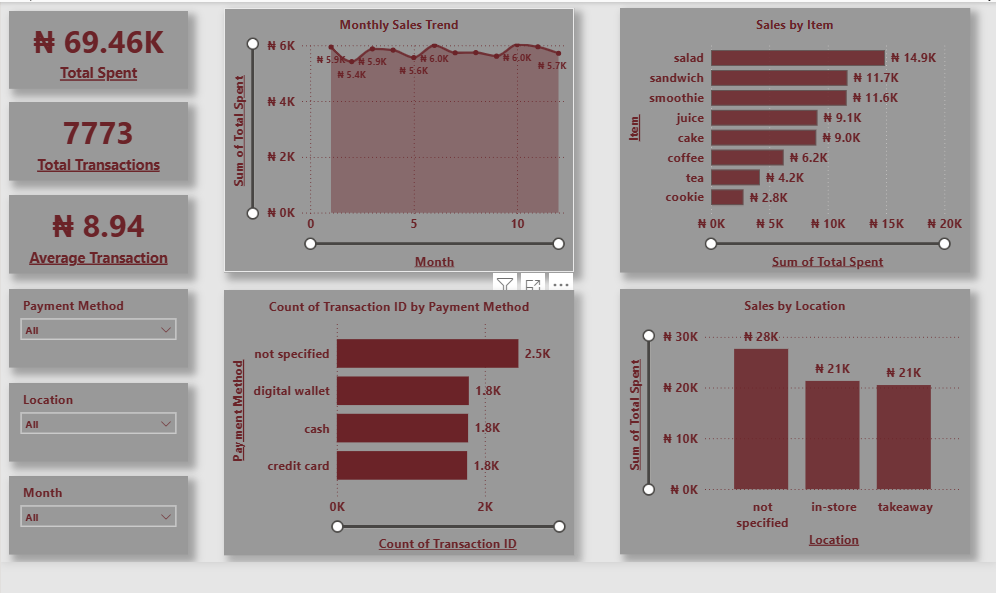

The page's visual inventory and layout, read from the dashboard file:
{"tool":"powerbi","page":{"name":"Page 1","canvas":[1280,720],"ordinal":0},"visuals":[{"type":"card","fields":{"Values":["Sum(cleaned_cafe_sales.Total Spent)"]},"box":[10,11.2,230,100],"z":0},{"type":"card","fields":{"Values":["Count(cleaned_cafe_sales.Transaction ID)"]},"box":[10.3,128,229.7,100.6],"z":1000},{"type":"card","fields":{"Values":["cleaned_cafe_sales.Average Transaction"]},"box":[10.3,248,229.7,100.6],"z":2000},{"type":"clusteredBarChart","title":"Sales by Item","fields":{"Category":["cleaned_cafe_sales.Item"],"Y":["Sum(cleaned_cafe_sales.Total Spent)"]},"box":[795,7.5,450,340],"z":3000},{"type":"lineChart","title":"Monthly Sales Trend","fields":{"Category":["cleaned_cafe_sales.Month"],"Y":["Sum(cleaned_cafe_sales.Total Spent)"]},"box":[286.2,7.5,450,340],"z":4000},{"type":"clusteredColumnChart","title":"Sales by Location","fields":{"Category":["cleaned_cafe_sales.Location"],"Y":["Sum(cleaned_cafe_sales.Total Spent)"]},"box":[795,368.8,450,341.2],"z":5000},{"type":"slicer","fields":{"Values":["cleaned_cafe_sales.Month"]},"box":[10.3,609.1,229.7,100.6],"z":6000},{"type":"slicer","fields":{"Values":["cleaned_cafe_sales.Location"]},"box":[10.3,489.1,229.7,100.6],"z":7000},{"type":"slicer","fields":{"Values":["cleaned_cafe_sales.Payment Method"]},"box":[10.3,369.1,229.7,100.6],"z":8000},{"type":"clusteredBarChart","fields":{"Category":["cleaned_cafe_sales.Payment Method"],"Y":["CountNonNull(cleaned_cafe_sales.Transaction ID)"]},"box":[286.3,370.4,450.3,340.6],"z":9000}]}

Visuals, with their boxes in screenshot pixels (x1, y1, x2, y2):
card - Sum(cleaned_cafe_sales.Total Spent): {"left": 3, "top": 4, "right": 186, "bottom": 83}
card - Count(cleaned_cafe_sales.Transaction ID): {"left": 3, "top": 97, "right": 186, "bottom": 177}
card - cleaned_cafe_sales.Average Transaction: {"left": 3, "top": 192, "right": 186, "bottom": 272}
"Sales by Item" clusteredBarChart: {"left": 627, "top": 1, "right": 985, "bottom": 271}
"Monthly Sales Trend" lineChart: {"left": 223, "top": 1, "right": 581, "bottom": 271}
"Sales by Location" clusteredColumnChart: {"left": 627, "top": 288, "right": 985, "bottom": 560}
slicer - cleaned_cafe_sales.Month: {"left": 3, "top": 479, "right": 186, "bottom": 559}
slicer - cleaned_cafe_sales.Location: {"left": 3, "top": 384, "right": 186, "bottom": 464}
slicer - cleaned_cafe_sales.Payment Method: {"left": 3, "top": 288, "right": 186, "bottom": 368}
clusteredBarChart - cleaned_cafe_sales.Payment Method x CountNonNull(cleaned_cafe_sales.Transaction ID): {"left": 223, "top": 289, "right": 581, "bottom": 560}
